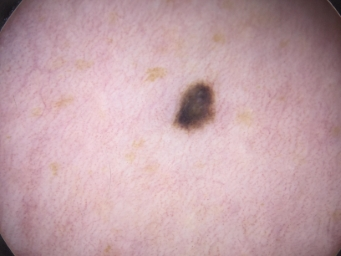nevus: (174, 83, 215, 131)
